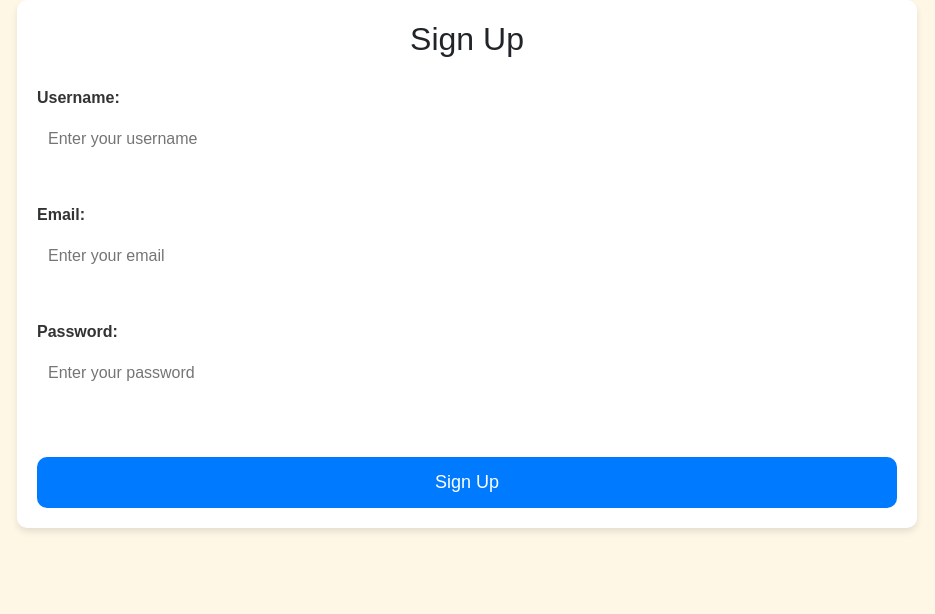
SignUp Component › shows success message on successful form submission
Type "newuser" into the field labelled "Username:".
click(466, 139); type("newuser")  # box [36, 115, 896, 163]
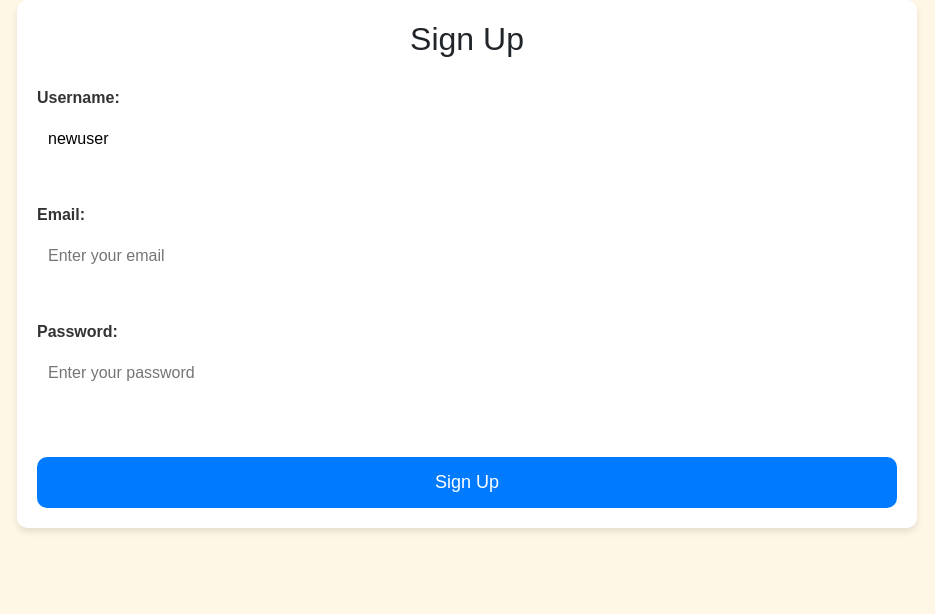
Type "test@example.com" into the field labelled "Email:".
click(466, 256); type("test@example.com")  # box [36, 232, 896, 280]
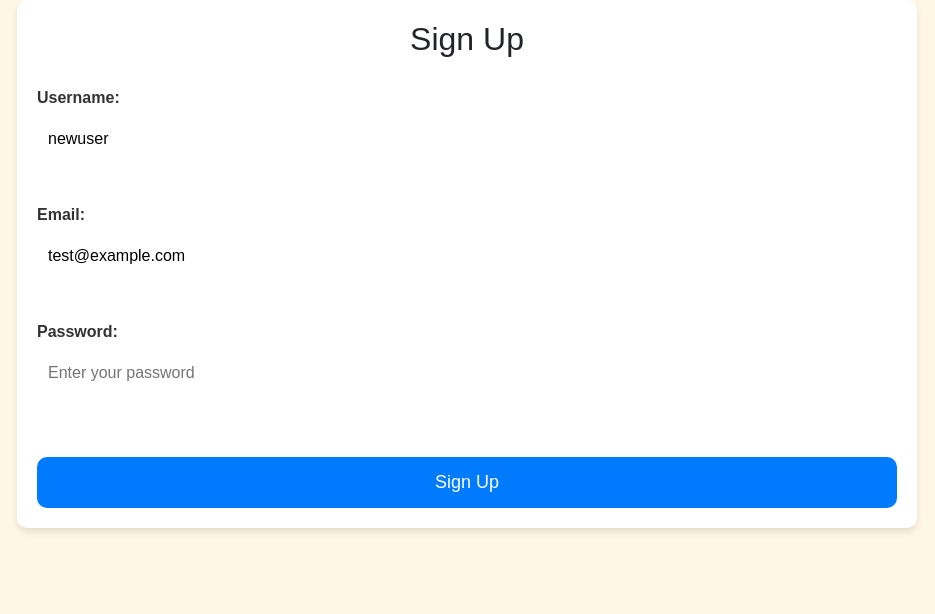
Type "password123" into the password field labelled "Password:".
click(466, 373); type("password123")  # box [36, 349, 896, 397]
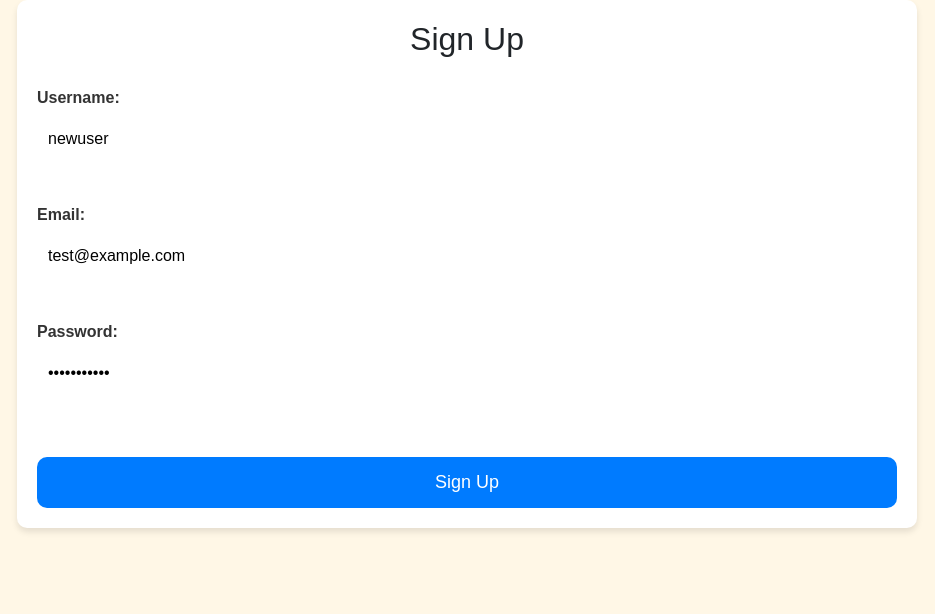
Click the button "Sign Up".
click(467, 483)  # box [37, 457, 897, 508]
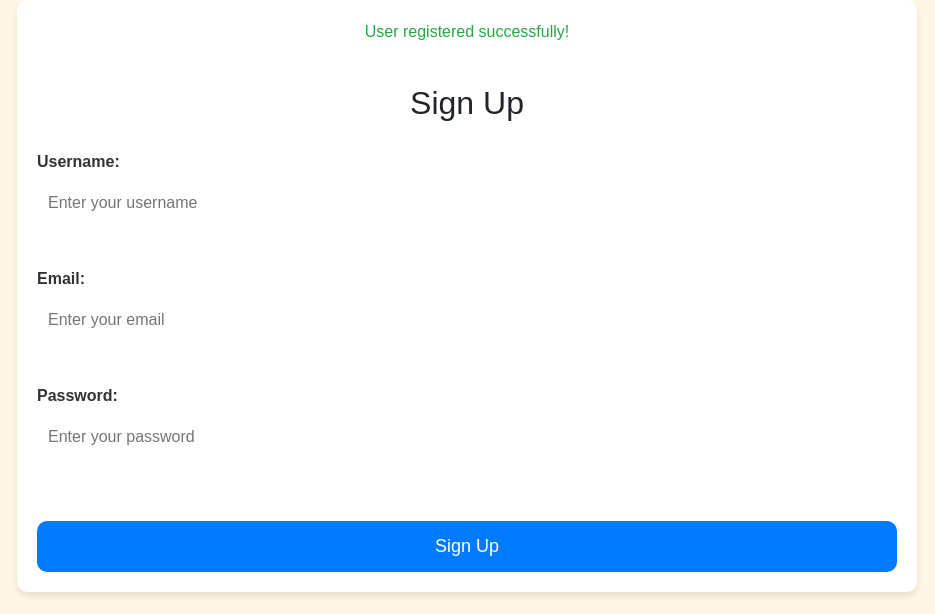
expect the text "User registered successfully!" is shown: met, box [365, 20, 569, 44]
